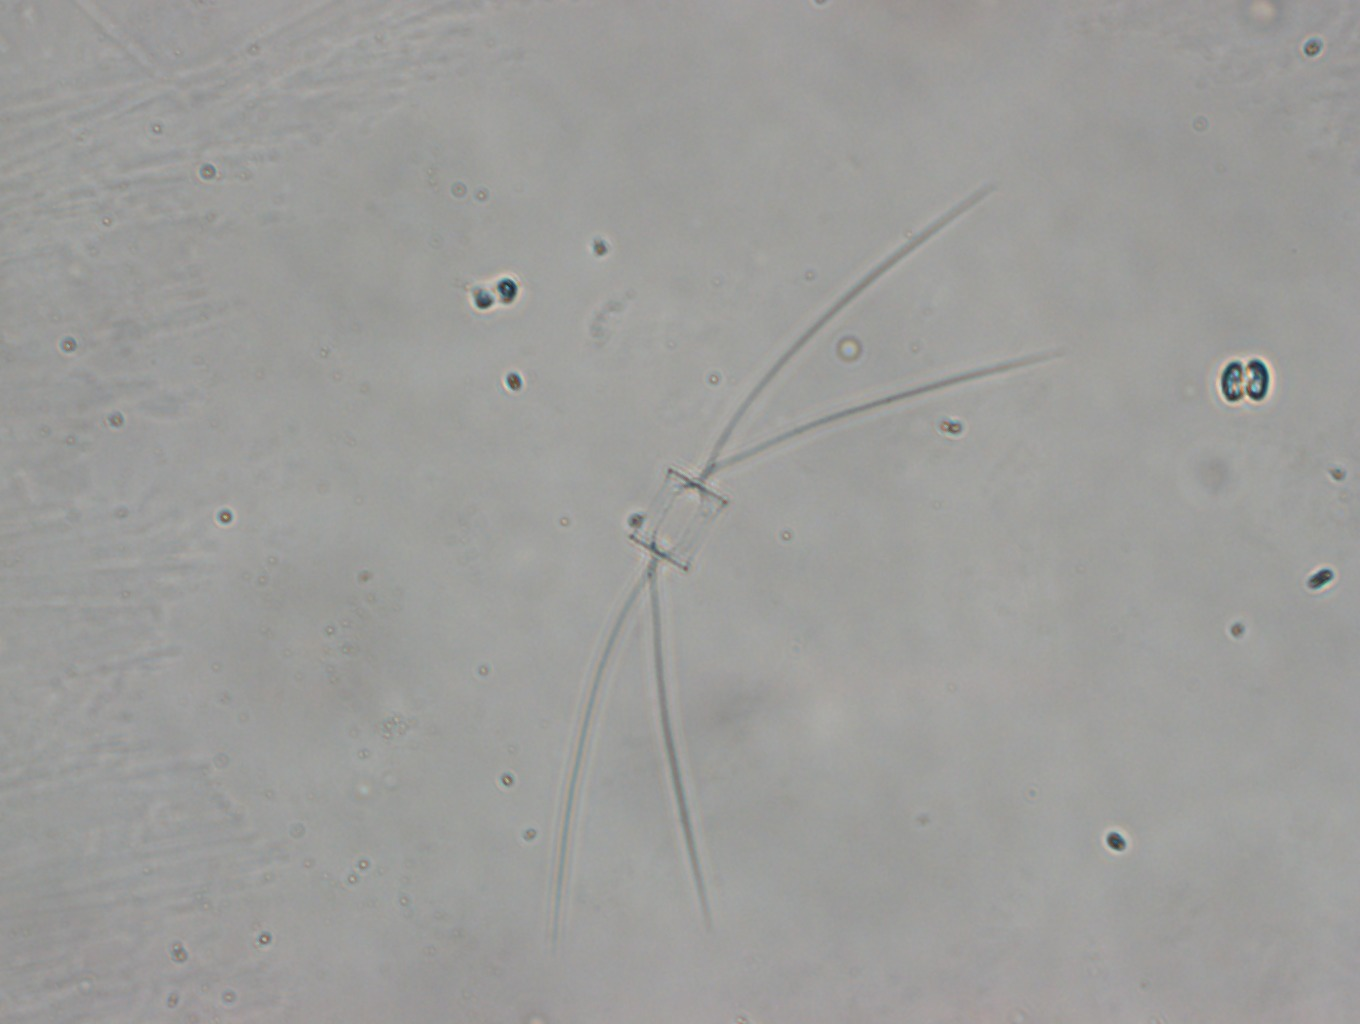chaetoceros: (552, 173, 1034, 953)
